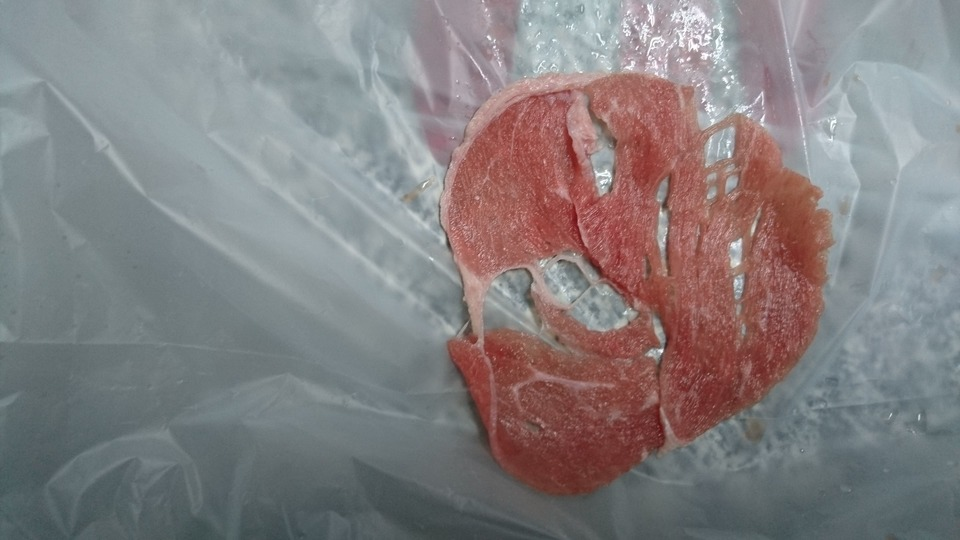restructured meat: (403, 42, 847, 502)
